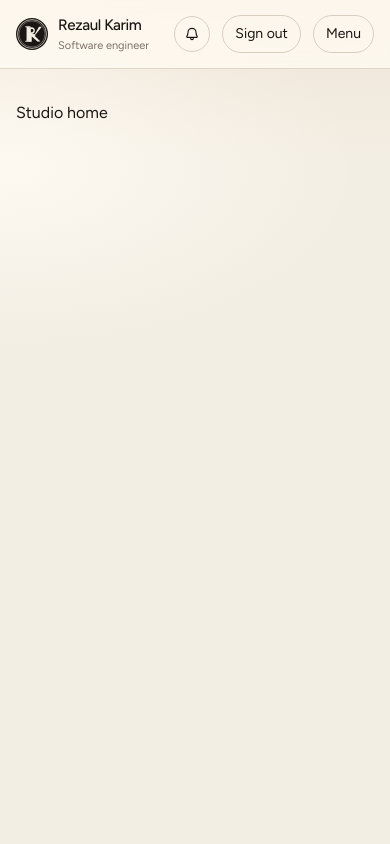
it: AppShell › uses a public-style menu on small screens
The width and height of the screenshot is (390, 844).
Expected: the button "Sign out" is shown, [222,15,301,53]
Click the button with aria-label "Open menu" at point(343, 34), box [313,15,374,53]
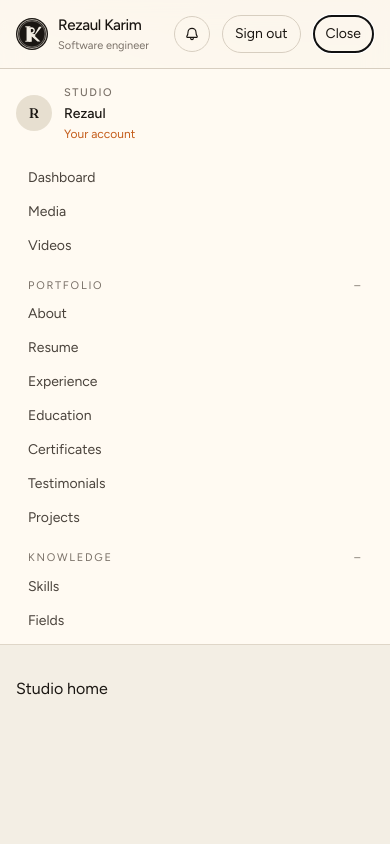
Expected: the text "Studio home" is shown, [16,679,108,698]
Expected: the button "Portfolio –" is shown
Expected: the button "Knowledge –" is shown, [16,550,374,570]
Click the button "Portfolio –" at point(66, 285), box [16,278,374,298]
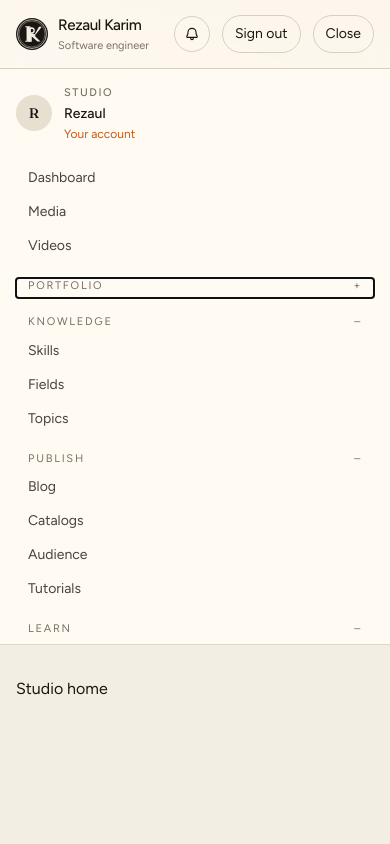
Expected: the button "Portfolio +" is collapsed, [16,278,374,298]
